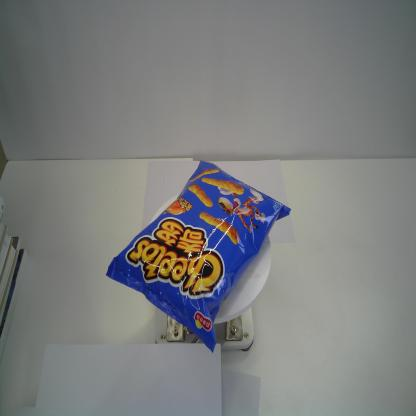Puffed Food: (105, 158, 291, 356)
